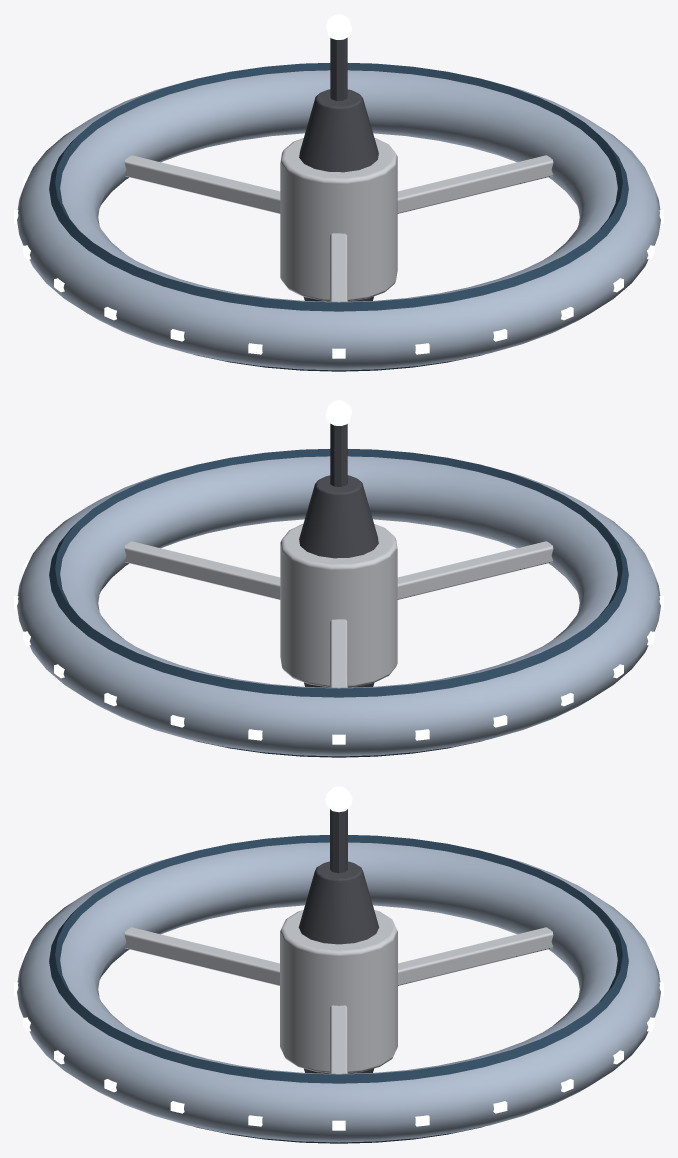
File: habitat.glb
The picture shows the model from 3 angles, top to bottom: view 1: azimuth 30°, elevation 25°; view 2: azimuth 150°, elevation 25°; view 3: azimuth 270°, elevation 25°; orthographic projection.
Parts seen in each view (by area): view 1: habitat; view 2: habitat; view 3: habitat.
Part boxes in pixels (x1,y1,x2,y2): habitat: (14, 14, 663, 371); habitat: (14, 400, 663, 757); habitat: (14, 786, 663, 1143).
Bounding box in the file's own units: 1.43 × 0.781 × 1.43.
